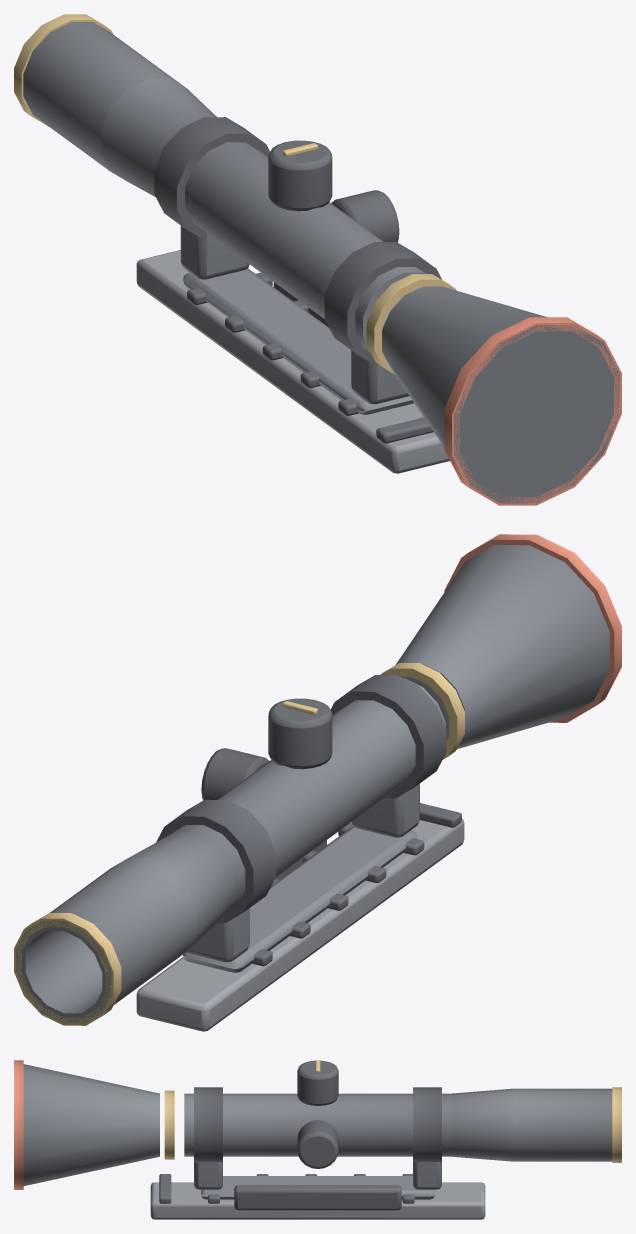
File: Optic_Scope8.glb
The picture shows the model from 3 angles, top to bottom: view 1: azimuth 30°, elevation 25°; view 2: azimuth 150°, elevation 25°; view 3: azimuth 270°, elevation 25°; orthographic projection. The views are drawn at different scales.
Parts seen in each view (by area): view 1: Cube.007, Cube.001, Cube, Cylinder.004, Cylinder.006; view 2: Cube.007, Cube.001, Cube, Cylinder.006, Cylinder.004; view 3: Cube.007, Cube.001, Cube, Cylinder.006, Cylinder.004.
Boxes of the visible parts, x1,y1,x2,y2 form: Cube.007: (23,22,619,503); Cube.001: (154,117,441,443); Cube: (136,250,449,473); Cylinder.004: (444,317,621,505); Cylinder.006: (14,14,456,374); Cube.007: (16,545,609,1023); Cube.001: (156,675,461,966); Cube: (136,819,464,1031); Cylinder.006: (14,663,464,1025); Cylinder.004: (444,534,621,722); Cube.007: (23,1064,612,1199); Cube.001: (159,1060,441,1210); Cube: (150,1182,485,1219); Cylinder.006: (164,1060,621,1162); Cylinder.004: (14,1060,23,1189).
Size of the model in its own units: 0.0519 by 0.0657 by 0.25.
